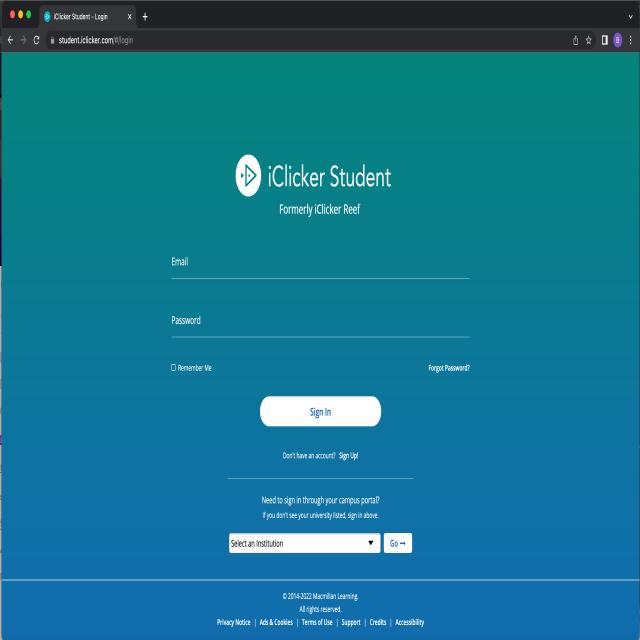button: (258, 398, 386, 427), (384, 534, 413, 552), (171, 361, 177, 373)
field: (169, 252, 472, 284), (169, 314, 483, 340)
